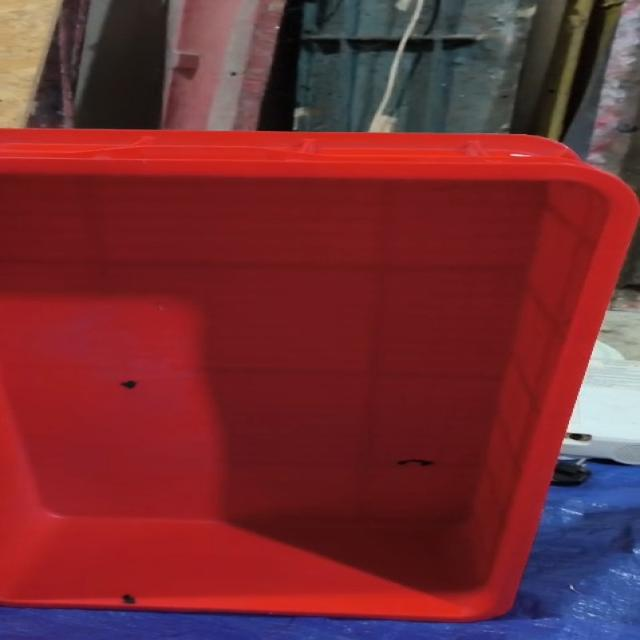red plastic box: (0, 128, 639, 622)
